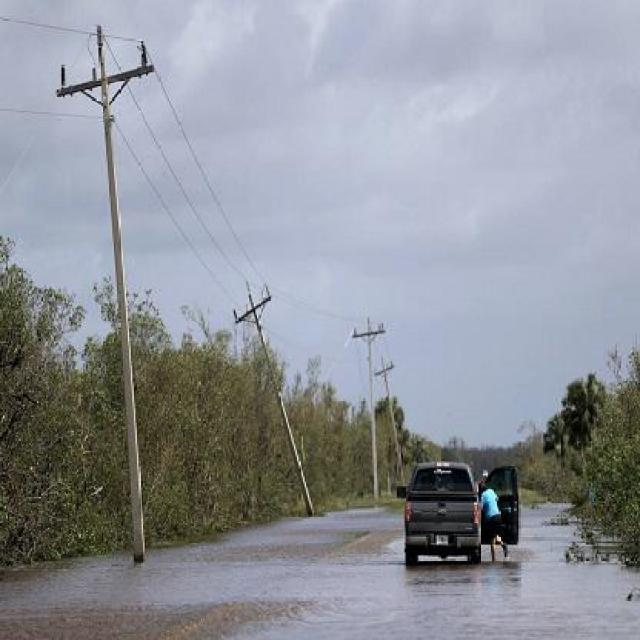pole: (51, 22, 168, 564), (346, 315, 406, 503)
